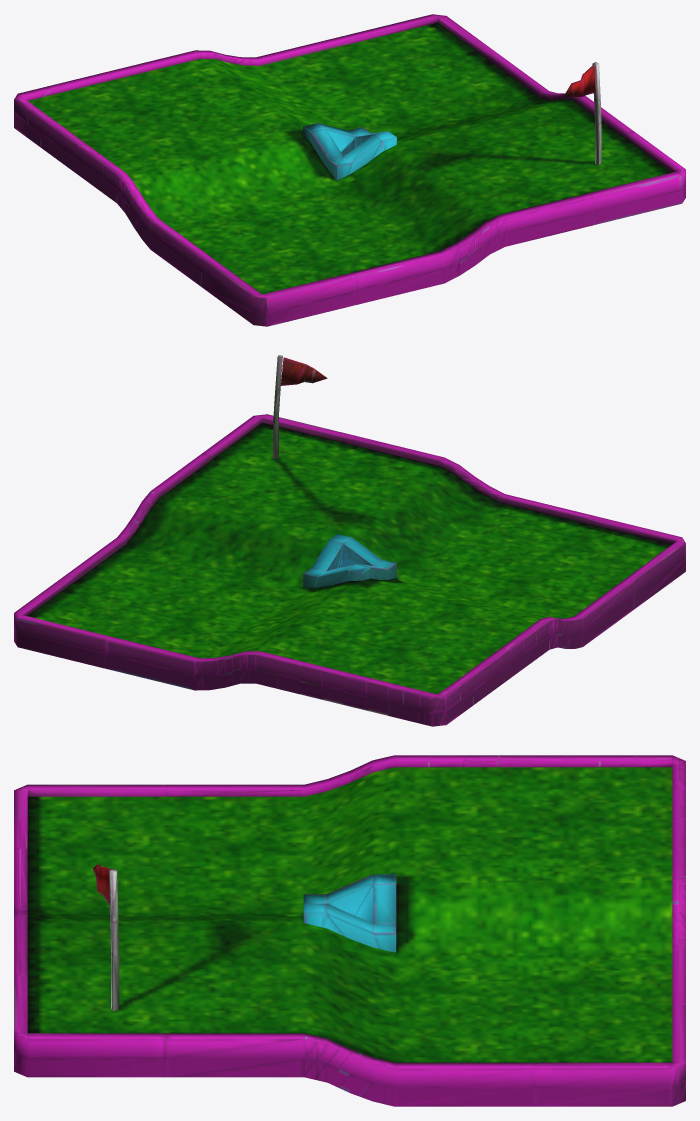
Rendered from sstars.obj.
3 views of the same model, one above another, from view 1: azimuth 30°, elevation 25°; view 2: azimuth 150°, elevation 25°; view 3: azimuth 270°, elevation 25° (orthographic). The views are drawn at different scales.
Visible parts, largest first — view 1: Mesh_Mesh.001_Mesh.001_Mesh.004_Mesh.005_Mesh_Mesh.001_Mate.000; view 2: Mesh_Mesh.001_Mesh.001_Mesh.004_Mesh.005_Mesh_Mesh.001_Mate.000; view 3: Mesh_Mesh.001_Mesh.001_Mesh.004_Mesh.005_Mesh_Mesh.001_Mate.000.
Boxes of the visible parts, x1,y1,x2,y2 form: Mesh_Mesh.001_Mesh.001_Mesh.004_Mesh.005_Mesh_Mesh.001_Mate.000: [14, 14, 685, 326]; Mesh_Mesh.001_Mesh.001_Mesh.004_Mesh.005_Mesh_Mesh.001_Mate.000: [14, 355, 685, 726]; Mesh_Mesh.001_Mesh.001_Mesh.004_Mesh.005_Mesh_Mesh.001_Mate.000: [14, 755, 685, 1106].
Bounding box in the file's own units: 14.72 × 5.2 × 14.72.
1 material, 1 textured.
